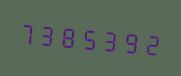eight: (59, 17, 79, 54)
five: (80, 19, 100, 56)
nine: (122, 22, 142, 60)
seven: (17, 13, 37, 51)
three: (38, 15, 58, 53), (101, 21, 121, 58)
two: (143, 24, 163, 62)
